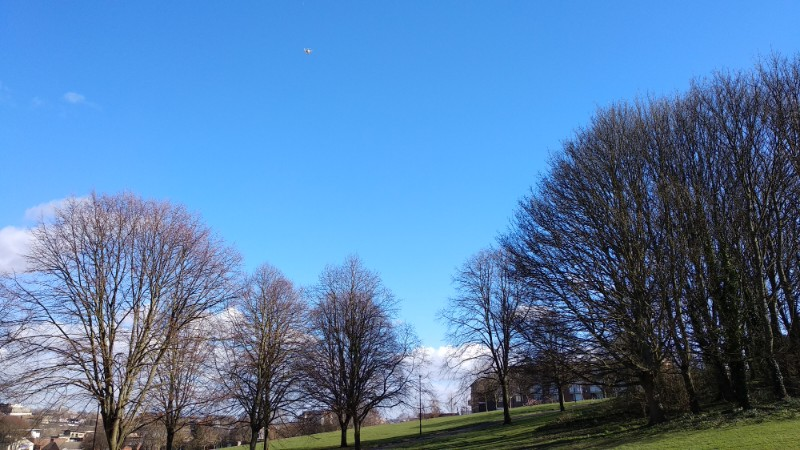drone: (301, 46, 314, 55)
